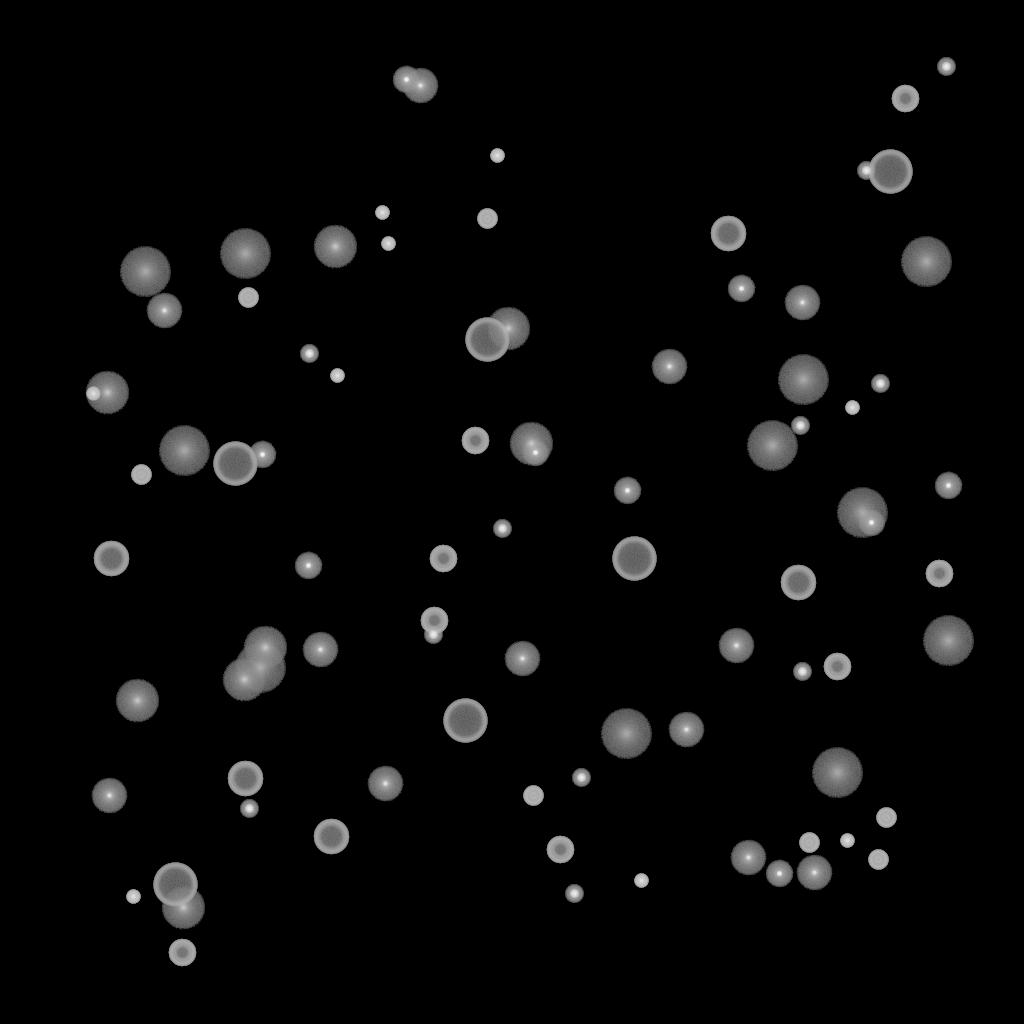depth:-10: (613, 477, 641, 505), (934, 472, 962, 500), (248, 441, 276, 469), (857, 509, 885, 537), (392, 66, 420, 94), (521, 439, 549, 467), (765, 860, 793, 888), (294, 552, 322, 580), (727, 275, 755, 303)
depth:-20: (857, 162, 875, 180), (493, 520, 511, 538), (871, 375, 889, 393), (793, 663, 811, 681), (572, 769, 590, 787), (791, 417, 809, 435), (300, 345, 318, 363), (937, 58, 955, 76), (424, 626, 442, 644), (240, 800, 258, 818), (565, 885, 583, 903)
depth:-30: (634, 874, 648, 888), (845, 401, 859, 415), (126, 890, 140, 904), (86, 387, 100, 401), (375, 206, 389, 220), (330, 369, 344, 383), (381, 237, 395, 251), (490, 149, 504, 163), (840, 834, 854, 848)
depth:-40: (868, 850, 888, 870), (238, 288, 258, 308), (876, 808, 896, 828), (131, 465, 151, 485), (477, 209, 497, 229), (799, 833, 819, 853), (523, 786, 543, 806)
depth:-50: (420, 607, 448, 635), (168, 939, 196, 967), (823, 653, 851, 681), (925, 560, 953, 588), (891, 85, 919, 113), (429, 545, 457, 573), (461, 427, 489, 455), (546, 836, 574, 864)
depth:-60: (710, 216, 746, 252), (313, 819, 349, 855), (227, 761, 263, 797), (93, 541, 129, 577), (780, 565, 816, 601)
depth:-70: (443, 699, 487, 743), (465, 318, 509, 362), (868, 150, 912, 194), (213, 442, 257, 486), (153, 863, 197, 907), (612, 537, 656, 581)
depth:0: (718, 628, 754, 664), (91, 778, 127, 814), (504, 641, 540, 677), (146, 293, 182, 329), (302, 632, 338, 668), (796, 855, 832, 891), (668, 712, 704, 748), (651, 349, 687, 385), (402, 68, 438, 104), (367, 766, 403, 802), (784, 285, 820, 321), (730, 840, 766, 876)
depth:10: (509, 422, 553, 466), (222, 658, 266, 702), (85, 371, 129, 415), (313, 225, 357, 269), (486, 307, 530, 351), (115, 679, 159, 723), (161, 886, 205, 930), (243, 626, 287, 670)
depth:20: (219, 229, 271, 279), (600, 709, 652, 759), (746, 421, 798, 471), (158, 426, 210, 476), (777, 355, 829, 405), (234, 643, 286, 693), (900, 237, 952, 287), (119, 247, 171, 297), (922, 616, 974, 666), (836, 488, 888, 538), (811, 748, 863, 798)
